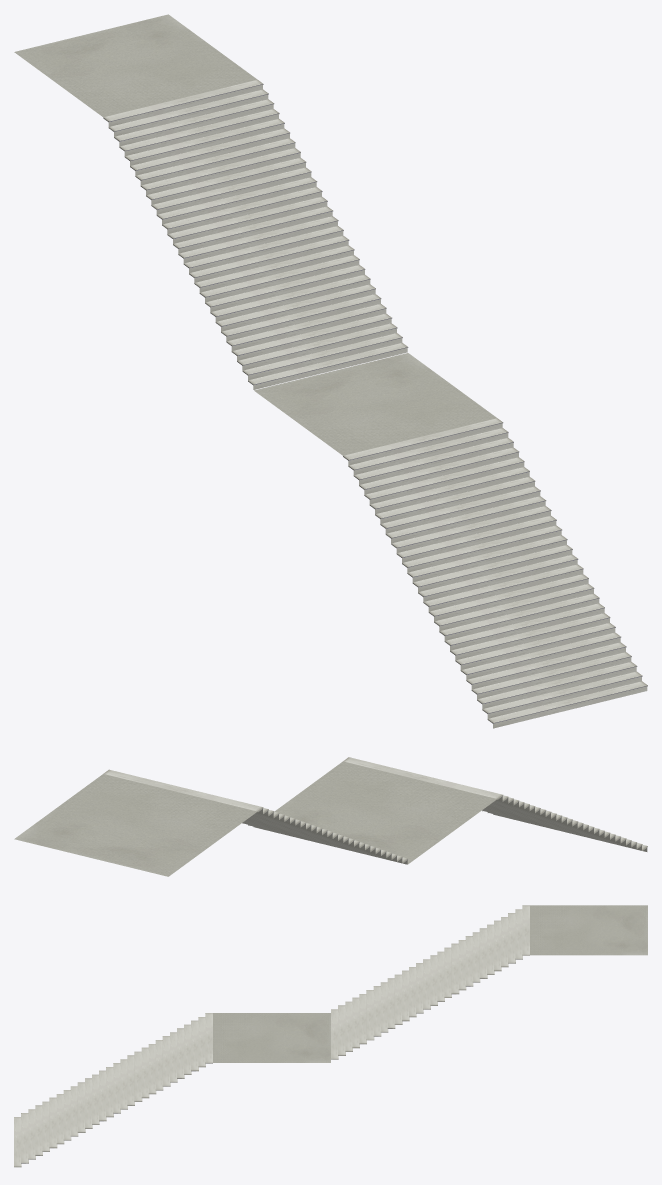
Rendered from StairsTextured.fbx.
3 views of the same model, one above another, from view 1: azimuth 30°, elevation 25°; view 2: azimuth 150°, elevation 25°; view 3: azimuth 270°, elevation 25° (orthographic). The views are drawn at different scales.
Parts seen in each view (by area): view 1: StairsProps; view 2: StairsProps; view 3: StairsProps.
Part boxes in pixels (box(x1,y1,x2,y2)): StairsProps: box(14, 14, 647, 728); StairsProps: box(14, 757, 647, 876); StairsProps: box(14, 905, 647, 1167).
Size of the model in its own units: 500 by 1008 by 2688.
